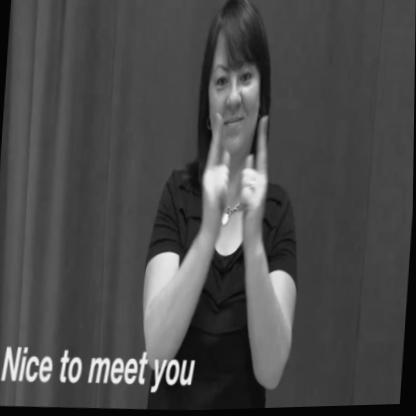NiceToMeetYou: (195, 89, 289, 278)
